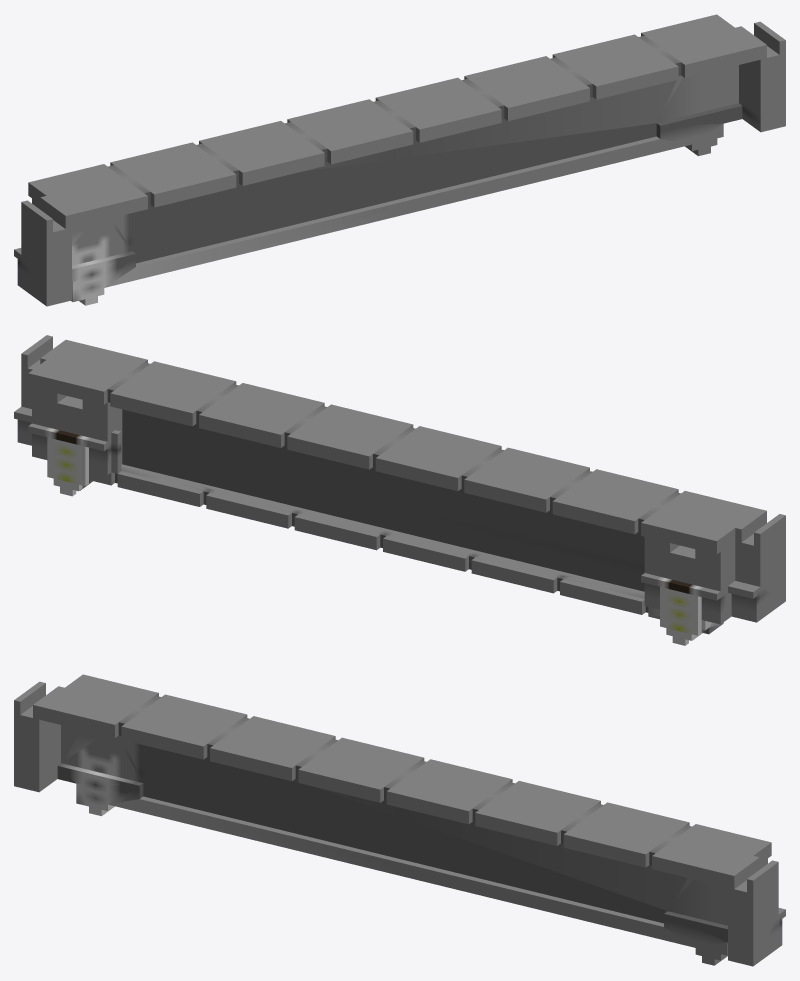
File: Team Attack Bar Holder.fbx
The picture shows the model from 3 angles, top to bottom: view 1: azimuth 30°, elevation 25°; view 2: azimuth 150°, elevation 25°; view 3: azimuth 330°, elevation 25°; orthographic projection.
Parts seen in each view (by area): view 1: Team_Attack_Bar_Holder.Merged; view 2: Team_Attack_Bar_Holder.Merged; view 3: Team_Attack_Bar_Holder.Merged.
Boxes of the visible parts, x1,y1,x2,y2 form: Team_Attack_Bar_Holder.Merged: (14, 14, 785, 306); Team_Attack_Bar_Holder.Merged: (14, 335, 785, 645); Team_Attack_Bar_Holder.Merged: (14, 674, 785, 966).
Bounding box in the file's own units: 23400 × 3400 × 2400.
